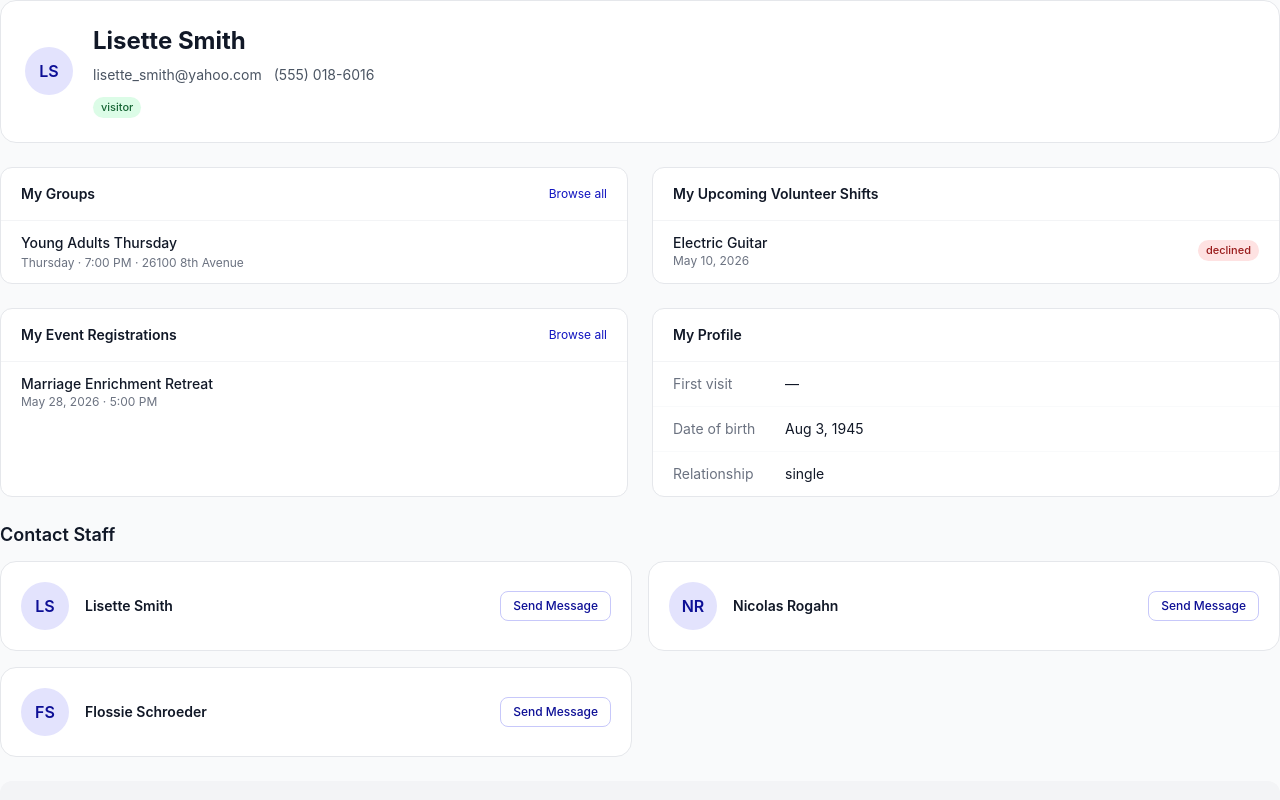
MemberDashboard — Contact Staff section › closes modal on Cancel click
The image size is (1280, 800).
Step 1. Click the 1st button "Send Message" → [556, 606], box x1=500 y1=590 x2=611 y2=620
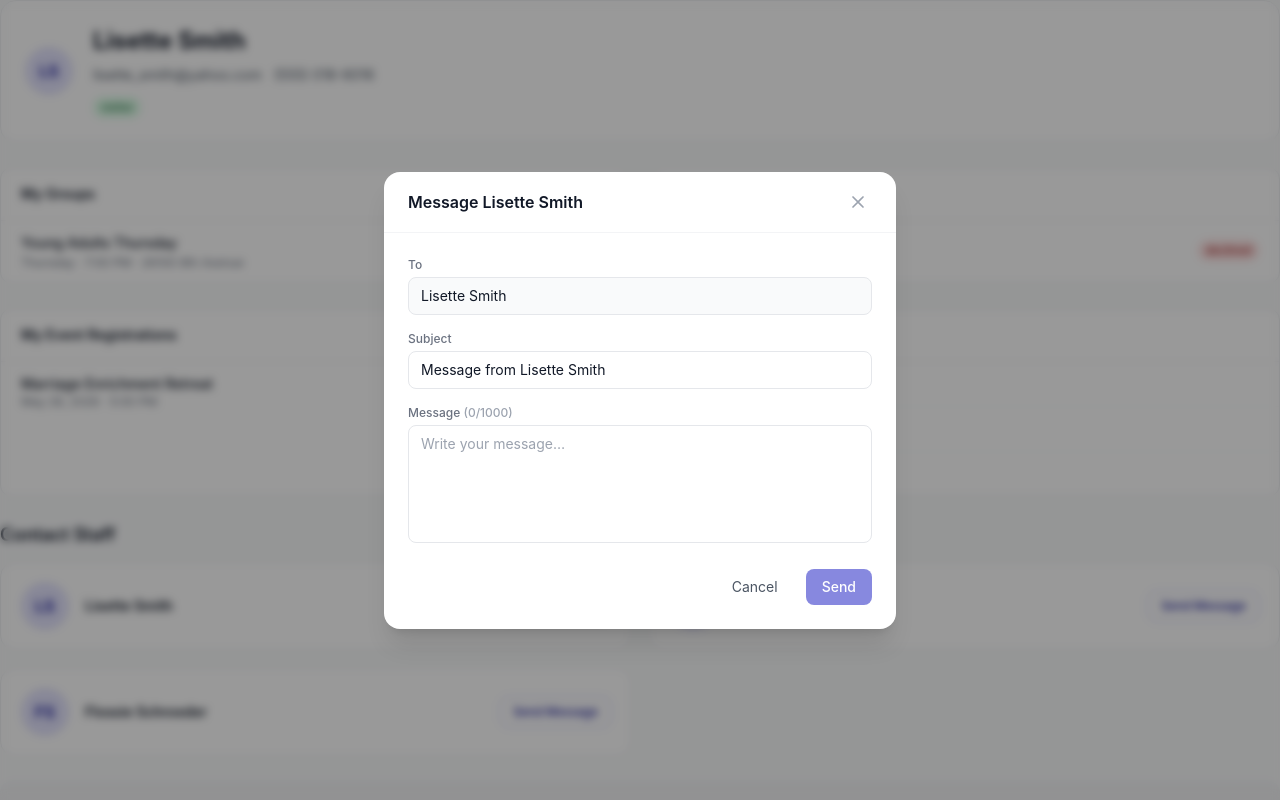
Check: the dialog is shown
Step 2. Click the button "Cancel" → [755, 586], box x1=716 y1=568 x2=794 y2=604
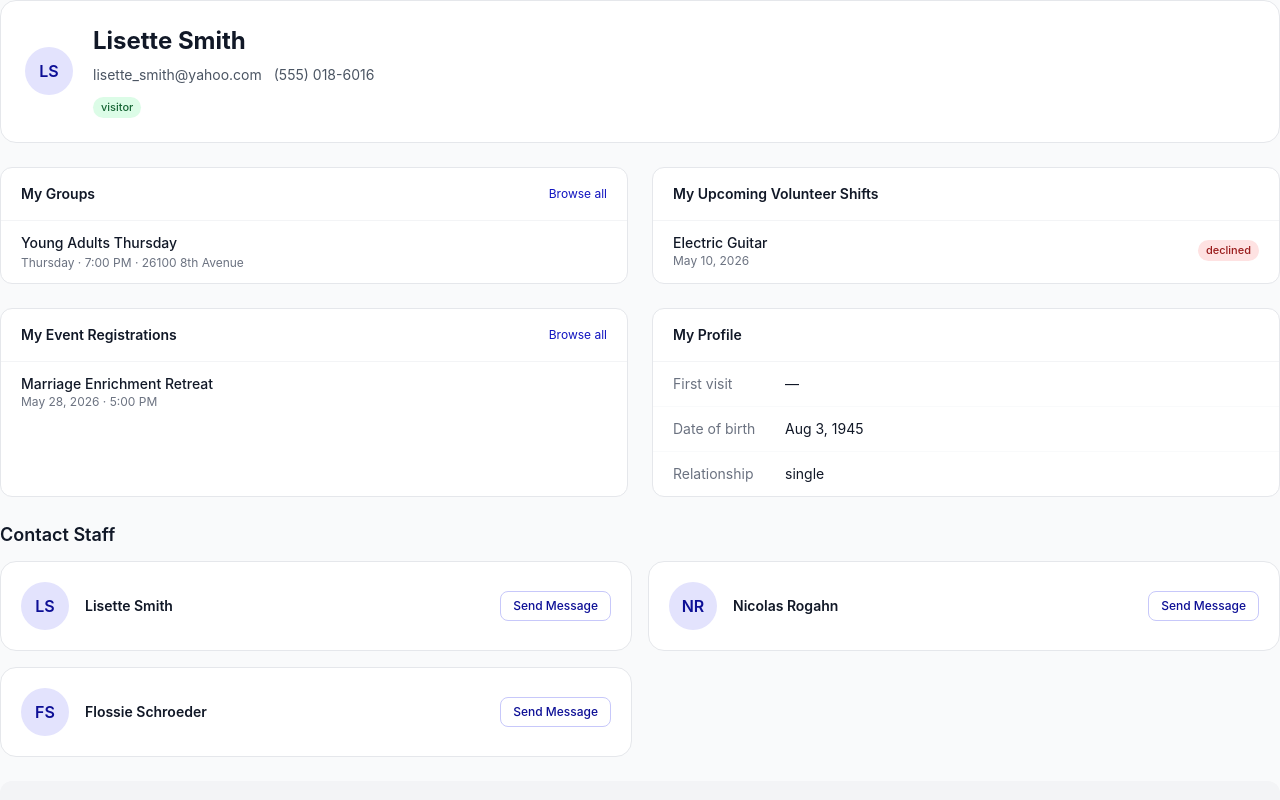
Check: the dialog is gone
